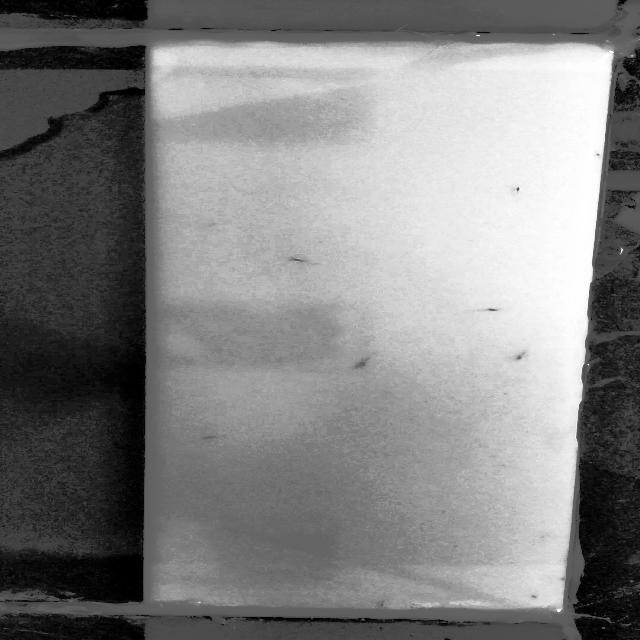shrimp: (274, 248, 326, 270), (469, 302, 513, 317), (349, 350, 379, 370), (510, 347, 534, 362), (522, 590, 545, 603), (366, 600, 392, 609), (510, 182, 527, 195), (197, 435, 238, 440)
